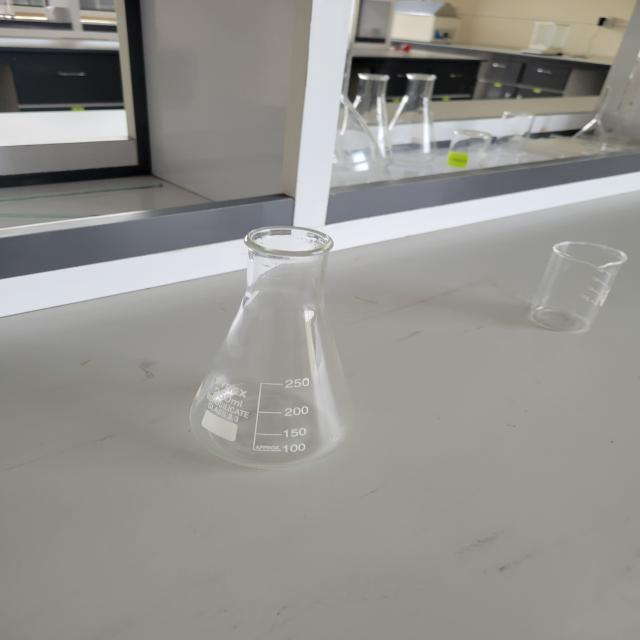Beaker: (510, 206, 640, 364)
Conical_Flask: (170, 189, 399, 487)
